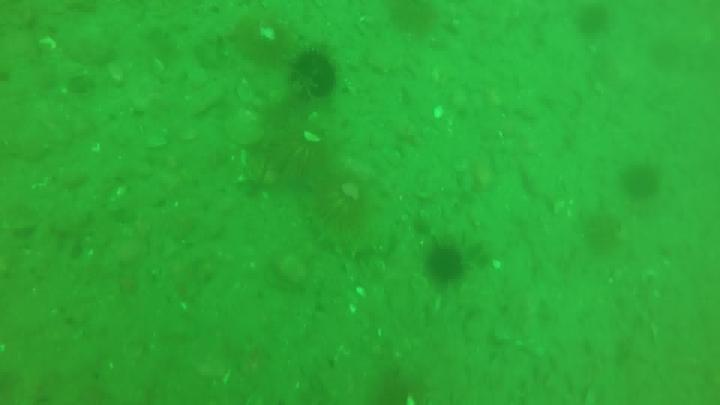echinus: (271, 118, 340, 188), (317, 173, 380, 232), (289, 47, 340, 101), (619, 168, 664, 201), (395, 1, 439, 33), (580, 8, 617, 40), (427, 250, 466, 279)
scallop: (39, 38, 57, 51), (356, 287, 369, 300)
